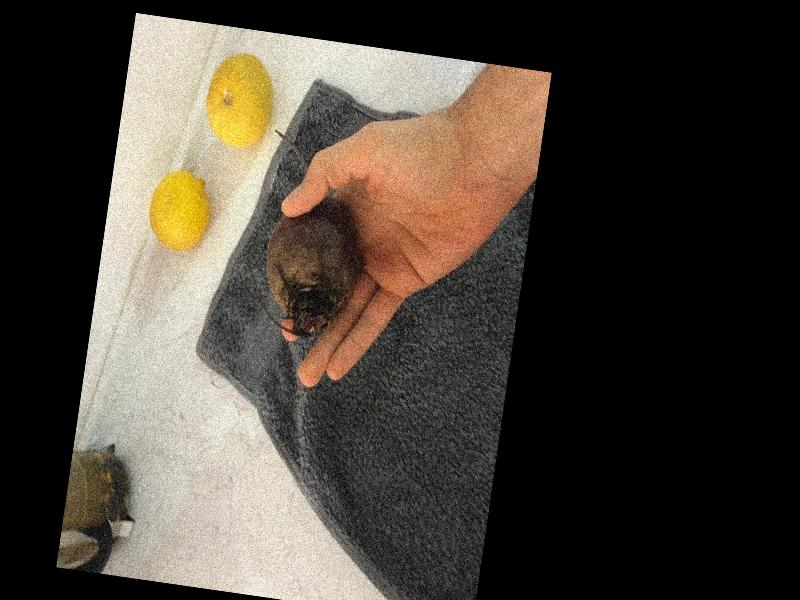Beet: (246, 128, 378, 342)
